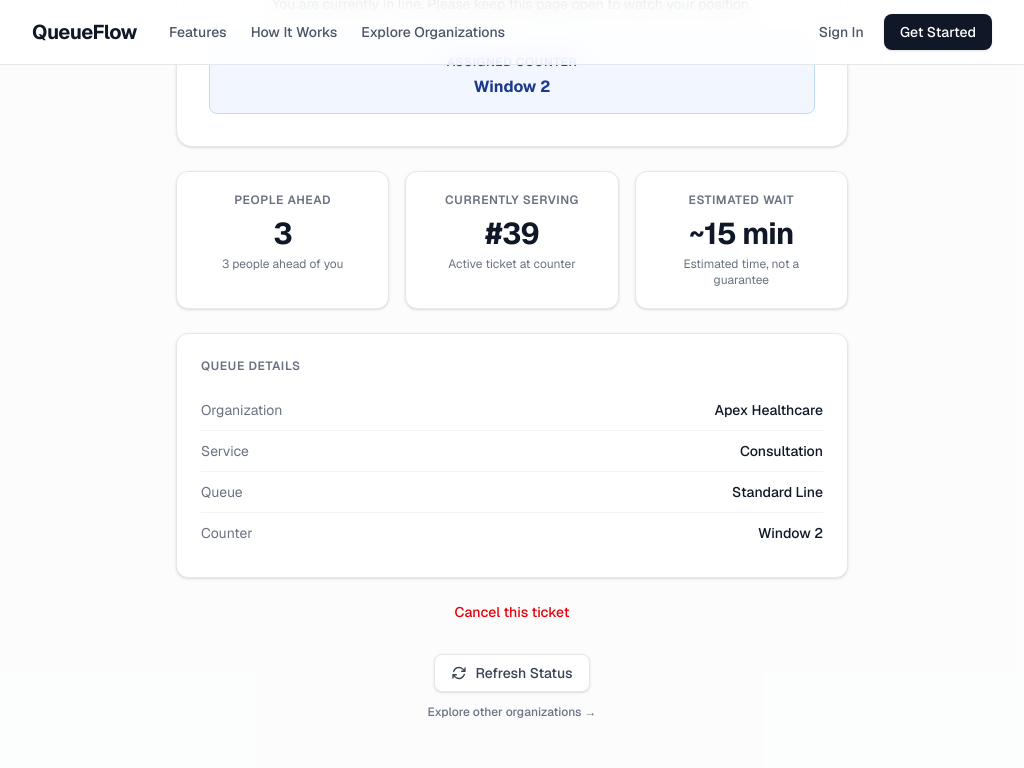
it: app/tickets/track/[trackingToken]/page (Public Ticket Tracking) › Background polling lifecycle › ignores out-of-order background poll responses when a manual refresh completes first
(page scrolled)
Expected: the text "3 people ahead of you" is shown, [222,256,343,272]
Note: User manually clicks Refresh Status before background poll resolves
What coordinates should you click on to do the following:
click the button "Refresh Status"
I would click on:
 (512, 673)
Its box is [434,654,590,692].
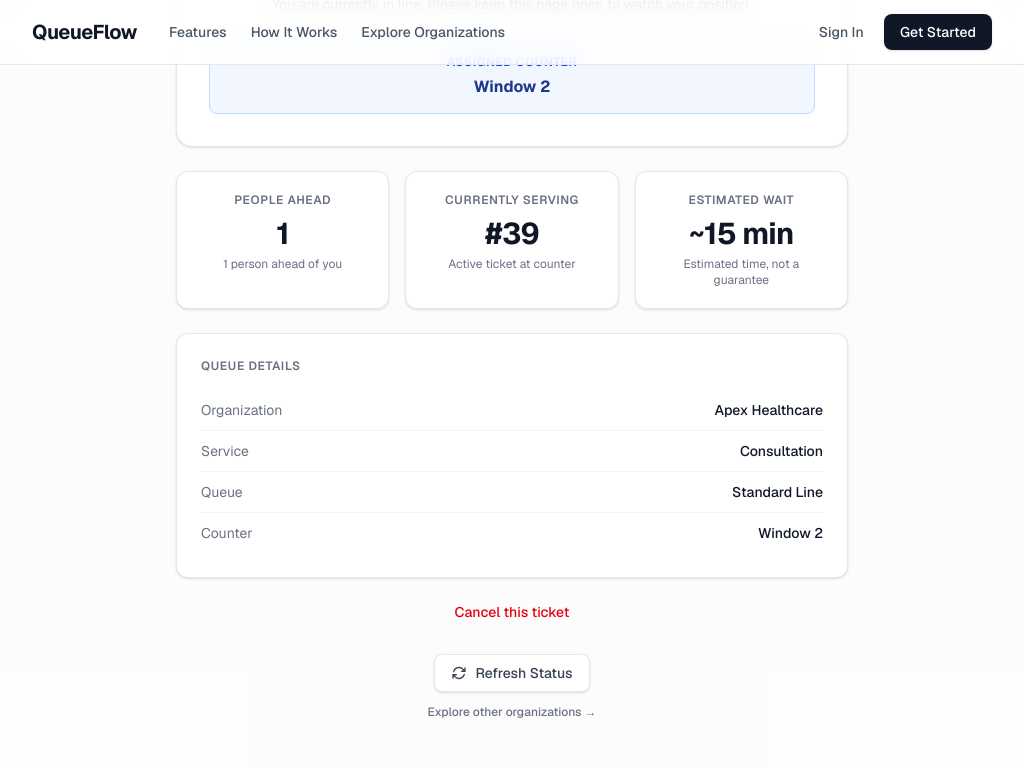
Expected: the text "1 person ahead of you" is shown, [223,256,342,272]
